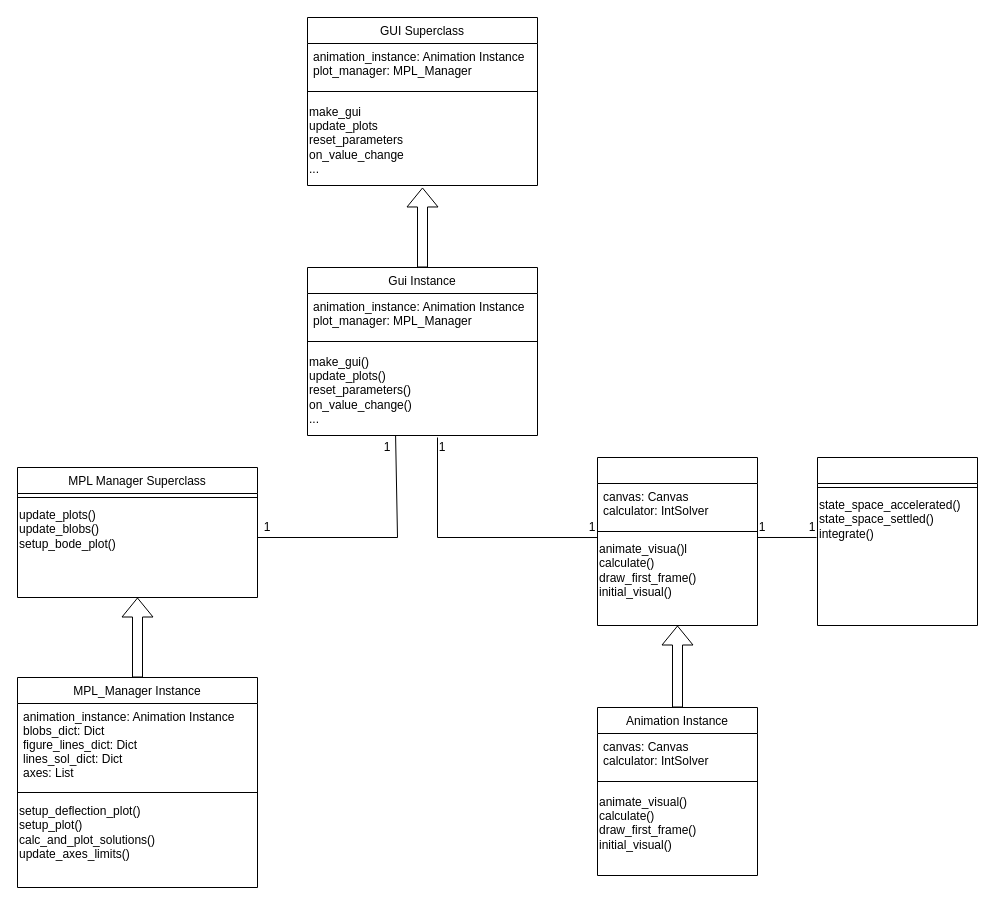
This 995x905 diagram has some shape labels left out. Each missing label, with the box of its shape:
Animaton Superclass: (596, 456, 758, 626)
IntSolver: (816, 456, 978, 626)
